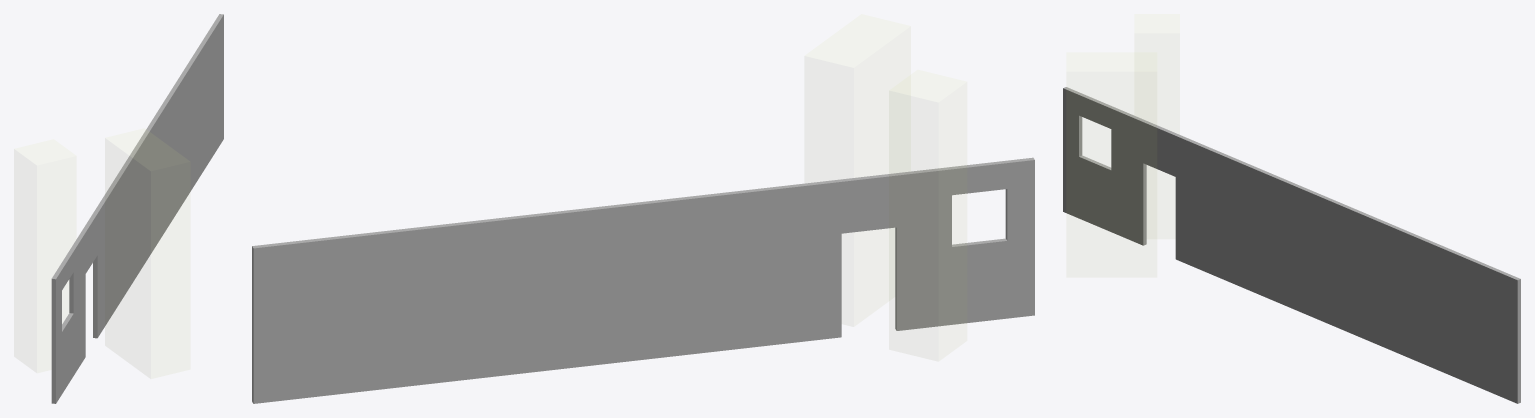
Rendered from Elements_StandardWall.glb.
3 renders of one model, left to right at view 1: azimuth 30°, elevation 25°; view 2: azimuth 150°, elevation 25°; view 3: azimuth 270°, elevation 25°, orthographic. The views are drawn at different scales.
Parts seen in each view (by area): view 1: c7141a1b-0583-4081-8193-616e38b50bd3_mesh; view 2: c7141a1b-0583-4081-8193-616e38b50bd3_mesh; view 3: c7141a1b-0583-4081-8193-616e38b50bd3_mesh.
Part boxes in pixels (left/top/right/bottom): c7141a1b-0583-4081-8193-616e38b50bd3_mesh: left=51, top=14, right=223, bottom=403; c7141a1b-0583-4081-8193-616e38b50bd3_mesh: left=252, top=157, right=1034, bottom=403; c7141a1b-0583-4081-8193-616e38b50bd3_mesh: left=1063, top=87, right=1520, bottom=403.
Bounding box in the file's own units: 10.07 × 5 × 10.07.
